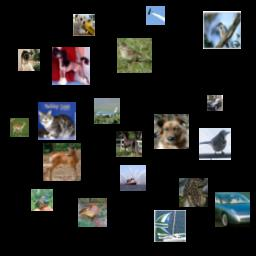airplane: (94, 98, 120, 124), (146, 6, 165, 25)
automobile: (215, 192, 250, 227), (207, 95, 223, 111)
bird: (203, 11, 241, 49), (117, 38, 152, 73), (199, 128, 231, 160), (31, 189, 53, 211)
cat: (38, 102, 76, 140), (18, 49, 40, 71)
deer: (43, 143, 81, 181), (78, 198, 107, 227), (10, 118, 29, 137)
dog: (52, 47, 90, 85), (154, 114, 189, 149), (73, 14, 95, 36)
frog: (179, 178, 208, 207)
ship: (154, 210, 186, 242), (120, 165, 146, 191)
